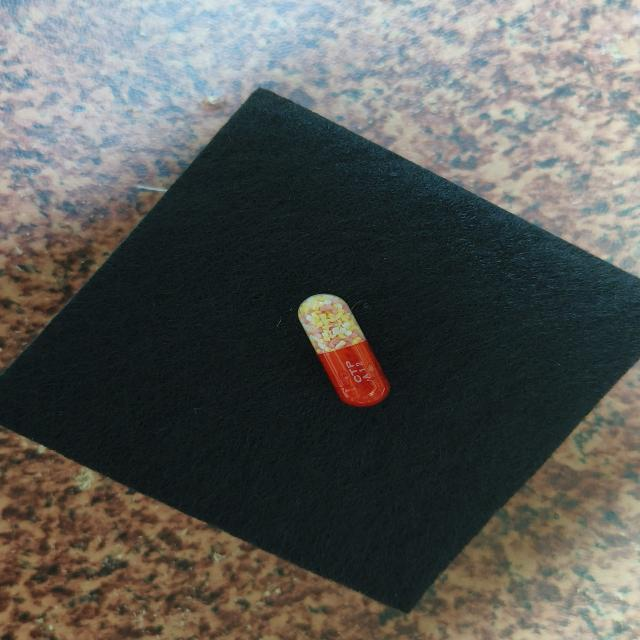Intact Capsule: (298, 294, 390, 407)
